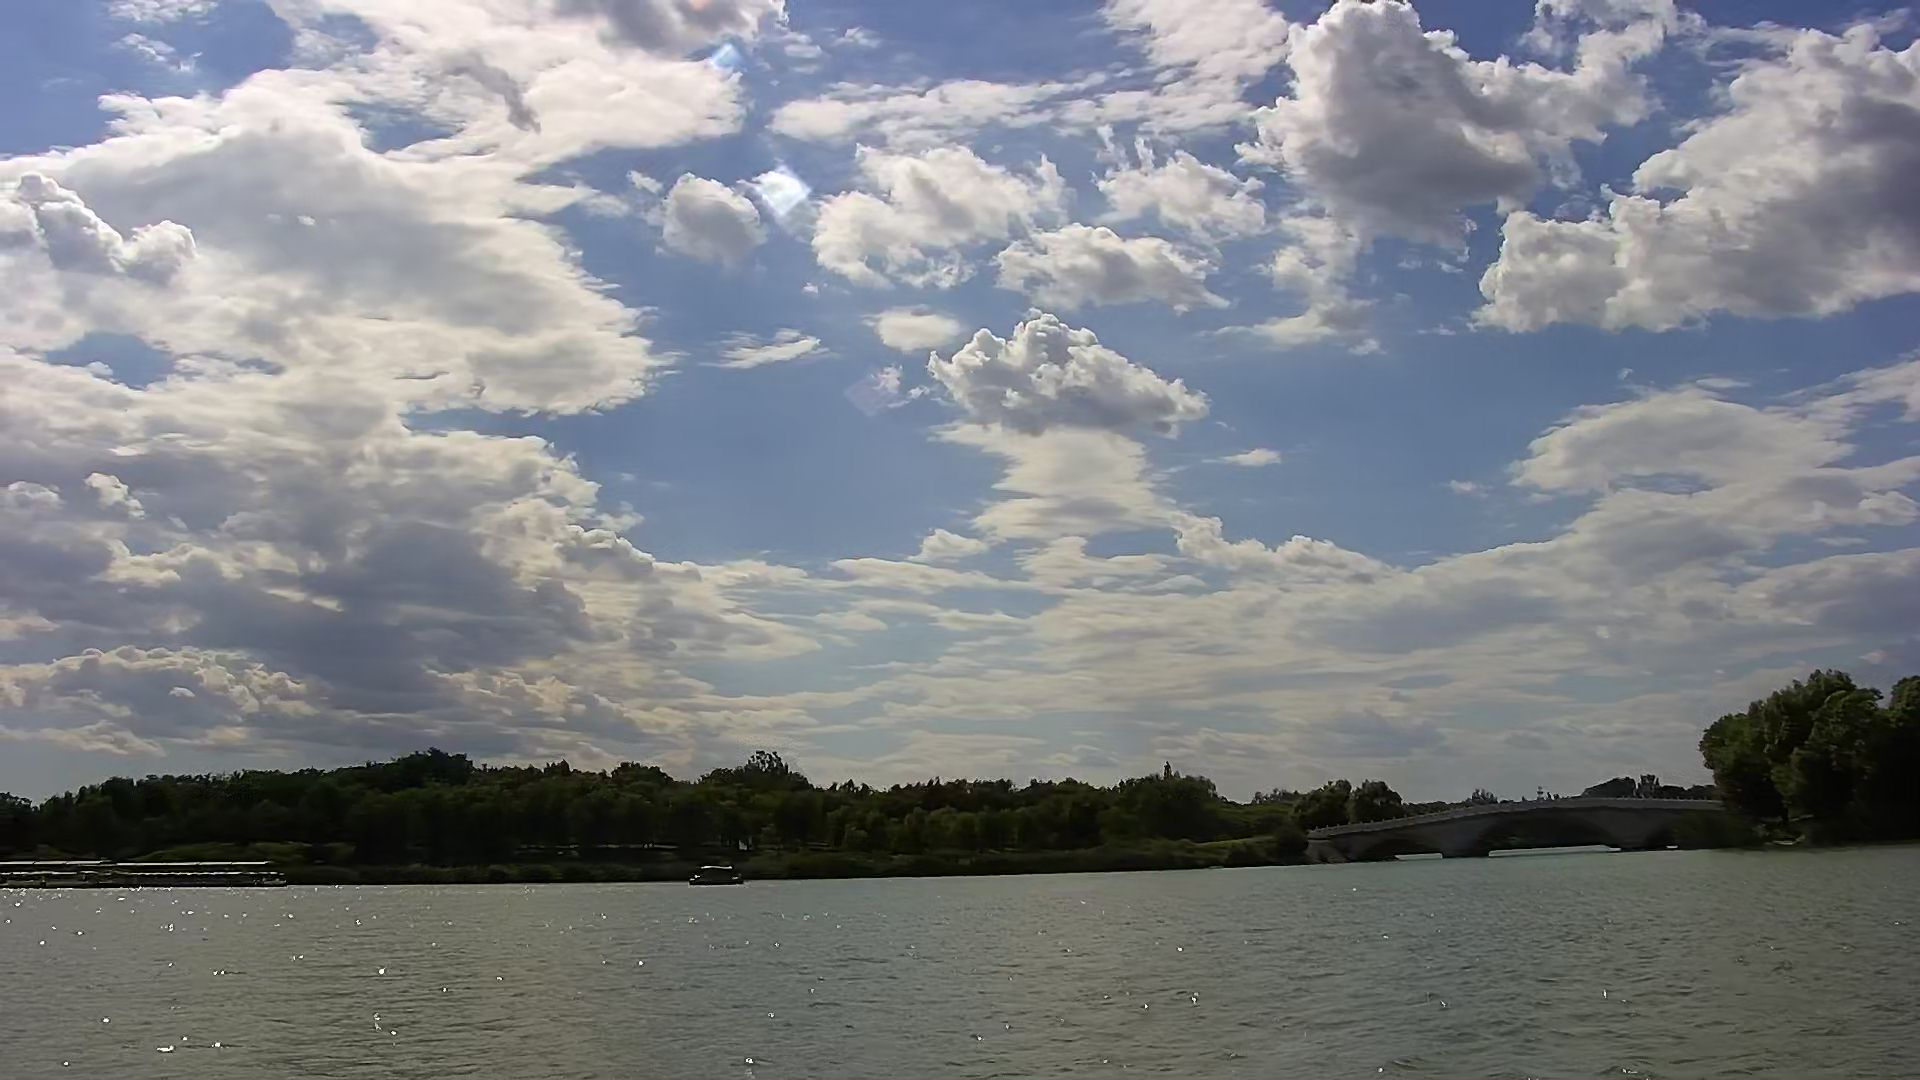boat: (691, 862, 746, 890)
bridge: (1337, 796, 1720, 861)
harbor: (1, 855, 286, 891)
